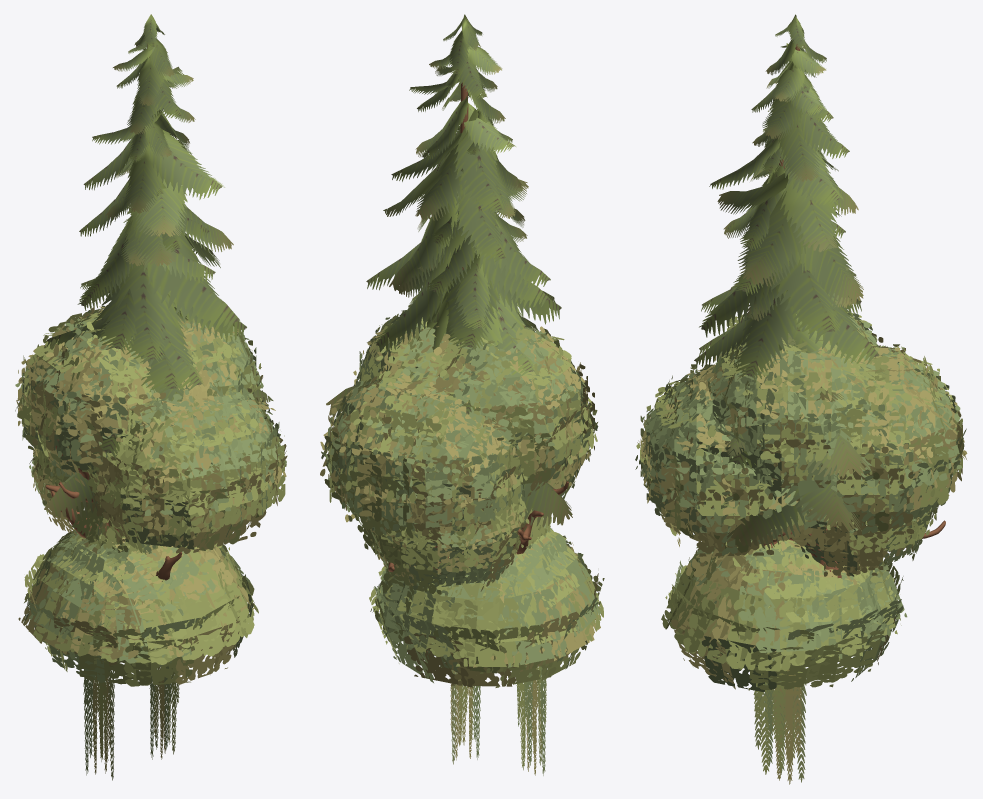
File: EN_tree.gltf
3 renders of one model, left to right at view 1: azimuth 30°, elevation 25°; view 2: azimuth 150°, elevation 25°; view 3: azimuth 270°, elevation 25°, orthographic. The views are drawn at different scales.
Visible parts, largest first — view 1: EN_Pine_tall, EN_Tree_3, EN_Tree_1, EN_Tree_top_2, EN_Tree_top_1, EN_Pine_thin, EN_Tree_2, EN_Vine_3, EN_Vine_4, EN_Tree_cone_1, EN_Tree_Dry_1, EN_Vine_1 (+1 smaller); view 2: EN_Tree_1, EN_Pine_tall, EN_Tree_top_1, EN_Tree_3, EN_Tree_2, EN_Pine_thin, EN_Tree_top_2, EN_Vine_3, EN_Vine_4, EN_Vine_2, EN_Vine_1, EN_Tree_Dry_1; view 3: EN_Pine_tall, EN_Tree_1, EN_Tree_top_2, EN_Tree_3, EN_Tree_2, EN_Tree_top_1, EN_Pine_thin, EN_Vine_4, EN_Vine_2, EN_Vine_3.
Part boxes in pixels (left/top/right/bottom): EN_Pine_tall: left=37, top=14, right=273, bottom=520; EN_Tree_3: left=15, top=312, right=269, bottom=554; EN_Tree_1: left=22, top=305, right=287, bottom=552; EN_Tree_top_2: left=28, top=532, right=258, bottom=686; EN_Tree_top_1: left=18, top=529, right=247, bottom=666; EN_Pine_thin: left=46, top=119, right=215, bottom=390; EN_Tree_2: left=29, top=381, right=235, bottom=540; EN_Vine_3: left=85, top=661, right=172, bottom=774; EN_Vine_4: left=89, top=663, right=179, bottom=780; EN_Tree_cone_1: left=86, top=508, right=167, bottom=560; EN_Tree_Dry_1: left=45, top=439, right=182, bottom=581; EN_Vine_1: left=83, top=669, right=155, bottom=775; EN_Tree_1: left=320, top=319, right=590, bottom=541; EN_Pine_tall: left=326, top=14, right=572, bottom=527; EN_Tree_top_1: left=372, top=526, right=604, bottom=673; EN_Tree_3: left=353, top=299, right=598, bottom=544; EN_Tree_2: left=363, top=465, right=573, bottom=594; EN_Pine_thin: left=417, top=109, right=555, bottom=414; EN_Tree_top_2: left=369, top=519, right=600, bottom=687; EN_Vine_3: left=459, top=665, right=546, bottom=775; EN_Vine_4: left=451, top=666, right=542, bottom=770; EN_Vine_2: left=449, top=670, right=533, bottom=771; EN_Vine_1: left=475, top=666, right=546, bottom=775; EN_Tree_Dry_1: left=513, top=462, right=568, bottom=554; EN_Pine_tall: left=699, top=14, right=879, bottom=549; EN_Tree_1: left=643, top=310, right=967, bottom=556; EN_Tree_top_2: left=661, top=539, right=903, bottom=691; EN_Tree_3: left=635, top=339, right=955, bottom=529; EN_Tree_2: left=683, top=364, right=937, bottom=576; EN_Tree_top_1: left=671, top=540, right=907, bottom=667; EN_Pine_thin: left=694, top=127, right=877, bottom=367; EN_Vine_4: left=753, top=661, right=806, bottom=782; EN_Vine_2: left=766, top=669, right=804, bottom=784; EN_Vine_3: left=758, top=661, right=802, bottom=780.
Bounding box in the file's own units: 2.85 × 8.45 × 3.34.
Materials: 4 (3 with a texture image).
